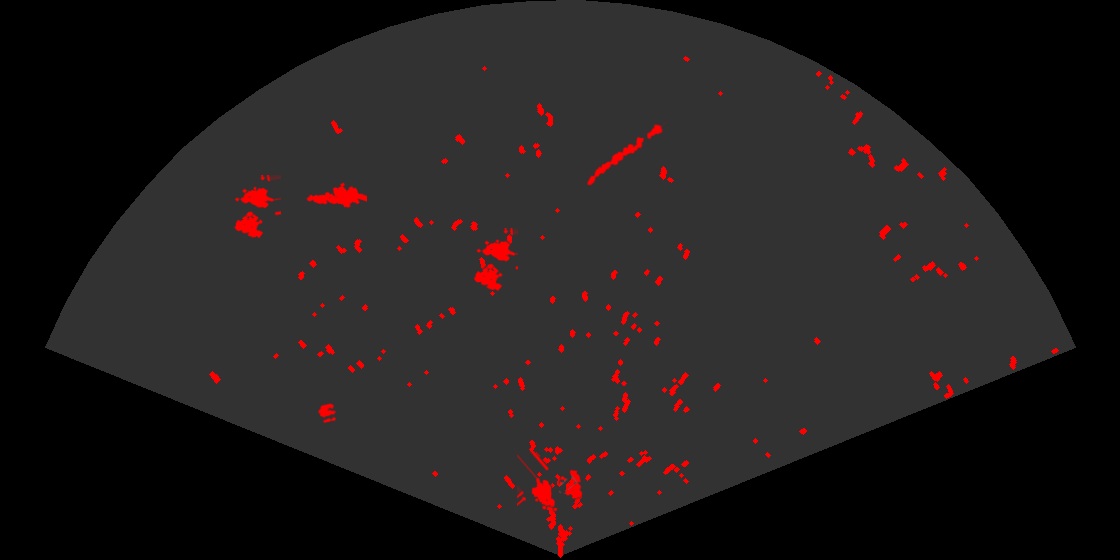ball: (317, 402, 338, 425)
cage: (517, 451, 584, 513), (233, 175, 281, 240), (472, 228, 518, 293)
chain: (585, 119, 668, 187)
frogman: (304, 181, 367, 209)
